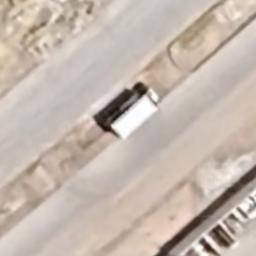truck: (104, 86, 160, 141)
